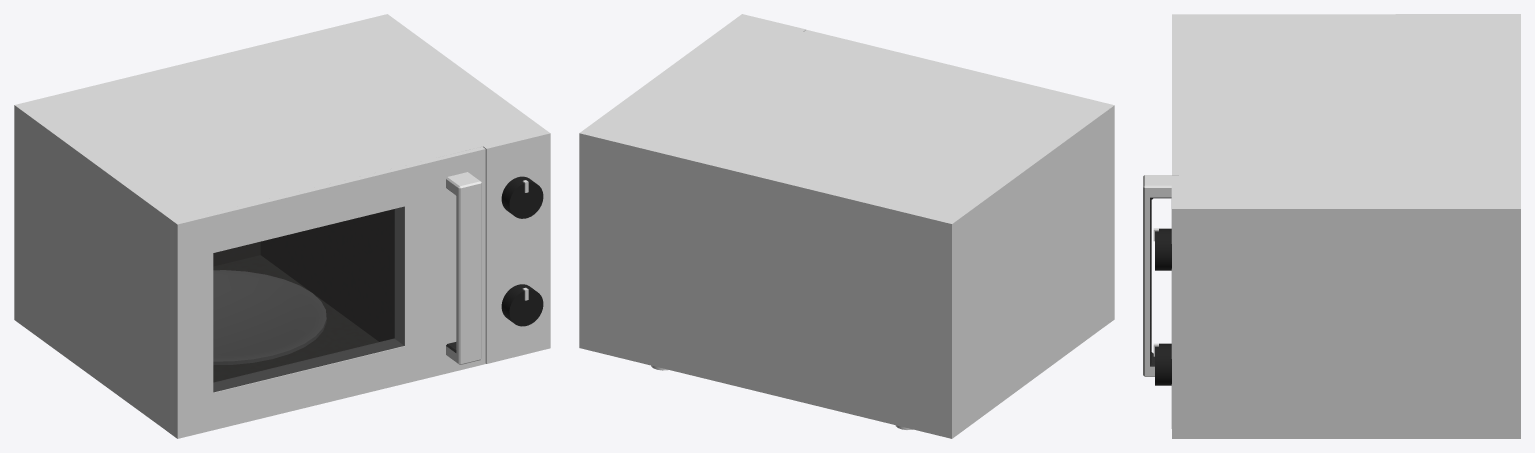
Rendered from MicrowaveOven04.fbx.
3 renders of one model, left to right at view 1: azimuth 30°, elevation 25°; view 2: azimuth 150°, elevation 25°; view 3: azimuth 270°, elevation 25°, orthographic. The views are drawn at different scales.
Visible parts, largest first — view 1: MicrowaveOven04, MicrowaveOven04_Door, MicrowaveOven04_Glass, MicrowaveOven04_Plate, MicrowaveOven04_Knob01, MicrowaveOven04_Knob02; view 2: MicrowaveOven04, MicrowaveOven04_Door; view 3: MicrowaveOven04, MicrowaveOven04_Door, MicrowaveOven04_Knob01, MicrowaveOven04_Knob02.
Boxes of the visible parts, box(x1,y1,x2,y2) form: MicrowaveOven04: box(14, 14, 550, 435); MicrowaveOven04_Door: box(174, 146, 485, 438); MicrowaveOven04_Glass: box(213, 207, 404, 392); MicrowaveOven04_Plate: box(213, 270, 326, 364); MicrowaveOven04_Knob01: box(501, 176, 543, 218); MicrowaveOven04_Knob02: box(501, 284, 543, 326); MicrowaveOven04: box(579, 14, 1111, 438); MicrowaveOven04_Door: box(804, 30, 1114, 321); MicrowaveOven04: box(1171, 14, 1520, 438); MicrowaveOven04_Door: box(1143, 14, 1179, 376); MicrowaveOven04_Knob01: box(1153, 228, 1171, 270); MicrowaveOven04_Knob02: box(1153, 343, 1171, 385).
Size of the model in its own units: 52.49 by 31.12 by 42.99.
